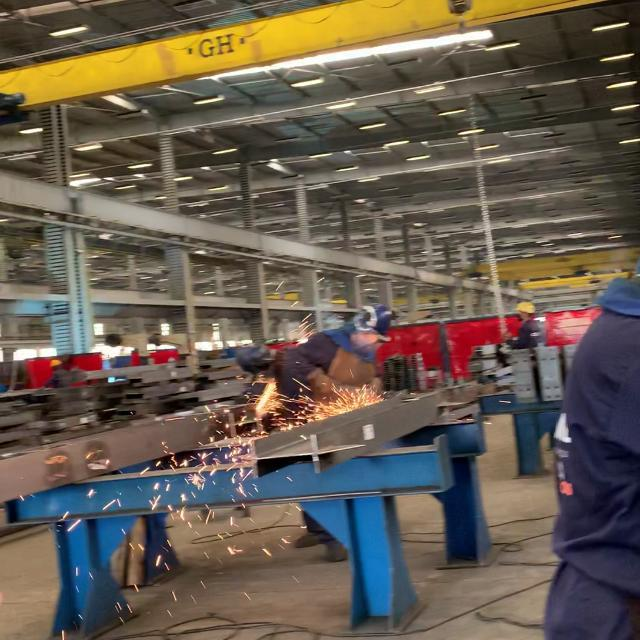face-shield: (352, 334, 391, 356)
glove: (309, 370, 343, 400)
helmet: (356, 306, 394, 334)
person: (273, 304, 395, 400)
safety-shoe: (291, 530, 333, 548)
